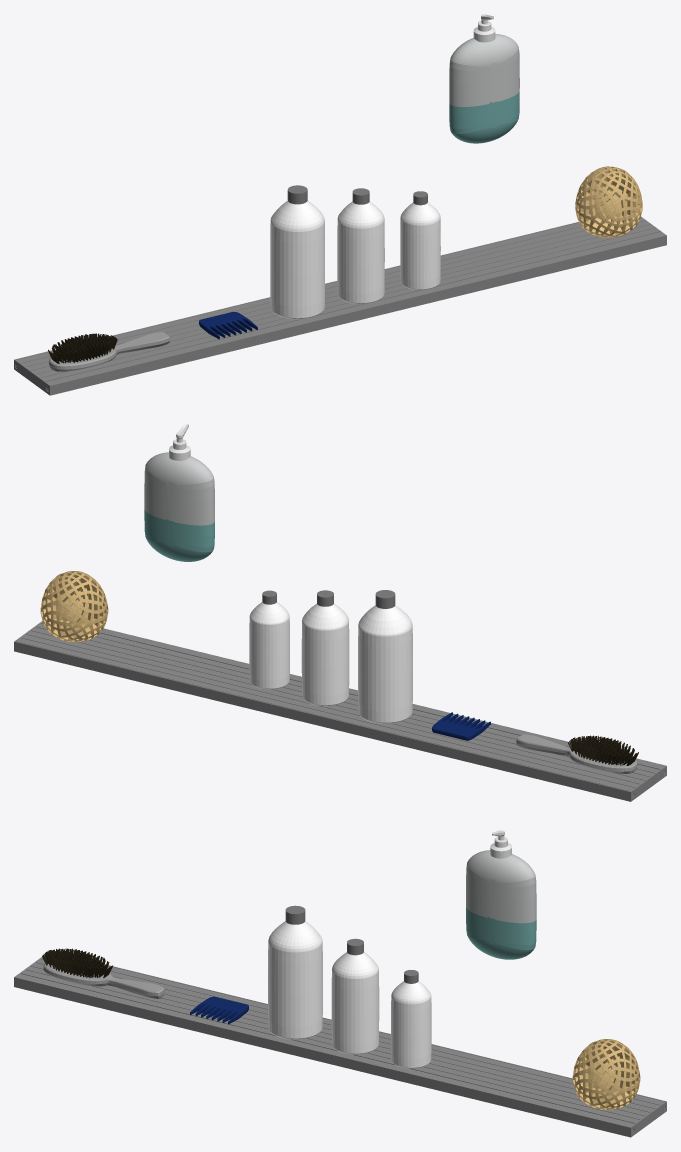
File: com_bath2.obj
3 views of the same model, one above another, from view 1: azimuth 30°, elevation 25°; view 2: azimuth 150°, elevation 25°; view 3: azimuth 330°, elevation 25° (orthographic).
Visible parts, largest first — view 1: marco_estanteria_Cube.001, liquid_soap_Sphere.002, jabon_pijo_Plane, jabon_pijo.001_Plane.004, esponja_icosahedro, jabon_pijo.002_Plane.007, cepillo_madera_Cube.006, peineta_Cube.005; view 2: marco_estanteria_Cube.001, liquid_soap_Sphere.002, jabon_pijo_Plane, jabon_pijo.001_Plane.004, esponja_icosahedro, jabon_pijo.002_Plane.007, cepillo_madera_Cube.006, peineta_Cube.005; view 3: marco_estanteria_Cube.001, liquid_soap_Sphere.002, jabon_pijo_Plane, jabon_pijo.001_Plane.004, esponja_icosahedro, jabon_pijo.002_Plane.007, cepillo_madera_Cube.006, peineta_Cube.005.
Boxes of the visible parts, x1=… form: marco_estanteria_Cube.001: x1=14, y1=216, x2=666, y2=395; liquid_soap_Sphere.002: x1=449, y1=34, x2=519, y2=143; jabon_pijo_Plane: x1=270, y1=200, x2=324, y2=319; jabon_pijo.001_Plane.004: x1=337, y1=201, x2=384, y2=304; esponja_icosahedro: x1=575, y1=166, x2=642, y2=237; jabon_pijo.002_Plane.007: x1=400, y1=202, x2=440, y2=289; cepillo_madera_Cube.006: x1=49, y1=332, x2=169, y2=371; peineta_Cube.005: x1=199, y1=311, x2=257, y2=339; marco_estanteria_Cube.001: x1=14, y1=621, x2=666, y2=801; liquid_soap_Sphere.002: x1=144, y1=452, x2=214, y2=561; jabon_pijo_Plane: x1=358, y1=605, x2=412, y2=723; jabon_pijo.001_Plane.004: x1=301, y1=603, x2=349, y2=706; esponja_icosahedro: x1=40, y1=571, x2=108, y2=642; jabon_pijo.002_Plane.007: x1=249, y1=602, x2=289, y2=689; cepillo_madera_Cube.006: x1=516, y1=734, x2=637, y2=773; peineta_Cube.005: x1=432, y1=712, x2=490, y2=740; marco_estanteria_Cube.001: x1=14, y1=955, x2=666, y2=1137; liquid_soap_Sphere.002: x1=466, y1=850, x2=536, y2=959; jabon_pijo_Plane: x1=268, y1=921, x2=322, y2=1039; jabon_pijo.001_Plane.004: x1=331, y1=952, x2=379, y2=1054; esponja_icosahedro: x1=572, y1=1039, x2=640, y2=1110; jabon_pijo.002_Plane.007: x1=391, y1=981, x2=431, y2=1068; cepillo_madera_Cube.006: x1=43, y1=963, x2=164, y2=998; peineta_Cube.005: x1=190, y1=996, x2=248, y2=1024.
Size of the model in its own units: 1 by 0.3918 by 0.1016.
